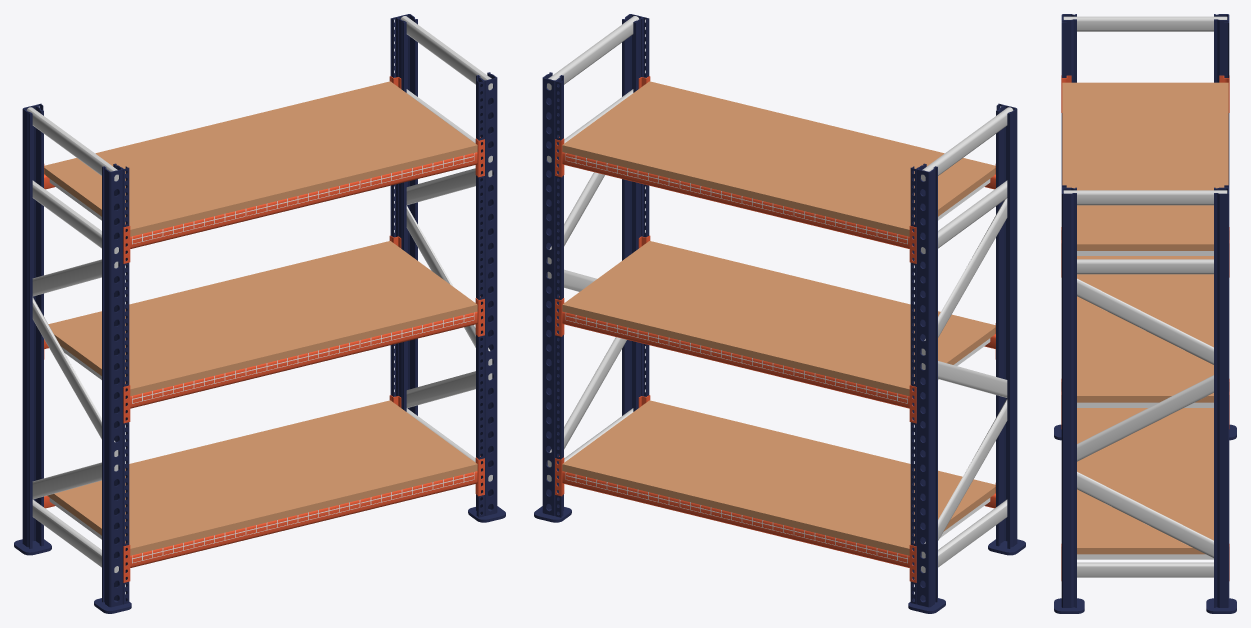
File: pallet_racking.glb
3 renders of one model, left to right at view 1: azimuth 30°, elevation 25°; view 2: azimuth 150°, elevation 25°; view 3: azimuth 270°, elevation 25°, orthographic. The views are drawn at different scales.
Visible parts, largest first — view 1: Sides_1, Chipboard Shelf.002_24, Chipboard Shelf.001_13, Chipboard Shelf_2, Shelf Supports.002_34, Shelf Supports_12, Shelf Supports.001_23; view 2: Sides_1, Chipboard Shelf.002_24, Chipboard Shelf.001_13, Chipboard Shelf_2, Shelf Supports.001_23, Shelf Supports_12, Shelf Supports.002_34; view 3: Sides_1, Chipboard Shelf.002_24, Chipboard Shelf_2, Chipboard Shelf.001_13, Galvanised Grid Shelf 3_5, Galvanised Grid Shelf 3.002_27, Galvanised Grid Shelf 3.001_16, Shelf Supports.002_34.
Boxes of the visible parts, box(x1,y1,x2,y2) form: Sides_1: box(14, 14, 505, 613); Chipboard Shelf.002_24: box(44, 81, 477, 236); Chipboard Shelf.001_13: box(48, 241, 477, 396); Chipboard Shelf_2: box(47, 400, 477, 555); Shelf Supports.002_34: box(44, 76, 484, 263); Shelf Supports_12: box(44, 395, 484, 582); Shelf Supports.001_23: box(44, 235, 484, 423); Sides_1: box(534, 14, 1025, 613); Chipboard Shelf.002_24: box(562, 81, 995, 236); Chipboard Shelf.001_13: box(562, 241, 995, 396); Chipboard Shelf_2: box(562, 400, 995, 555); Shelf Supports.001_23: box(555, 235, 995, 423); Shelf Supports_12: box(555, 395, 995, 582); Shelf Supports.002_34: box(555, 76, 995, 263); Sides_1: box(1054, 14, 1236, 613); Chipboard Shelf.002_24: box(1062, 82, 1228, 250); Chipboard Shelf_2: box(1077, 408, 1213, 554); Chipboard Shelf.001_13: box(1077, 256, 1213, 402); Galvanised Grid Shelf 3_5: box(1077, 554, 1213, 559); Galvanised Grid Shelf 3.002_27: box(1077, 251, 1213, 255); Galvanised Grid Shelf 3.001_16: box(1077, 402, 1213, 407); Shelf Supports.002_34: box(1061, 75, 1229, 277).
Size of the model in its own units: 2.9 by 3.02 by 1.2.
